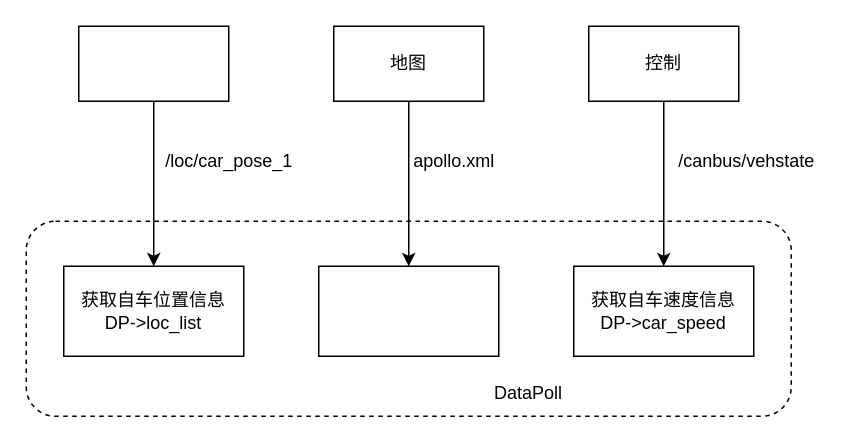
This 855x443 diagram has some shape labels left out. The centre of each missing label's shape, as x and y in pixels:
定位: point (153, 63)
获取地图相关信息 map: point (408, 310)
